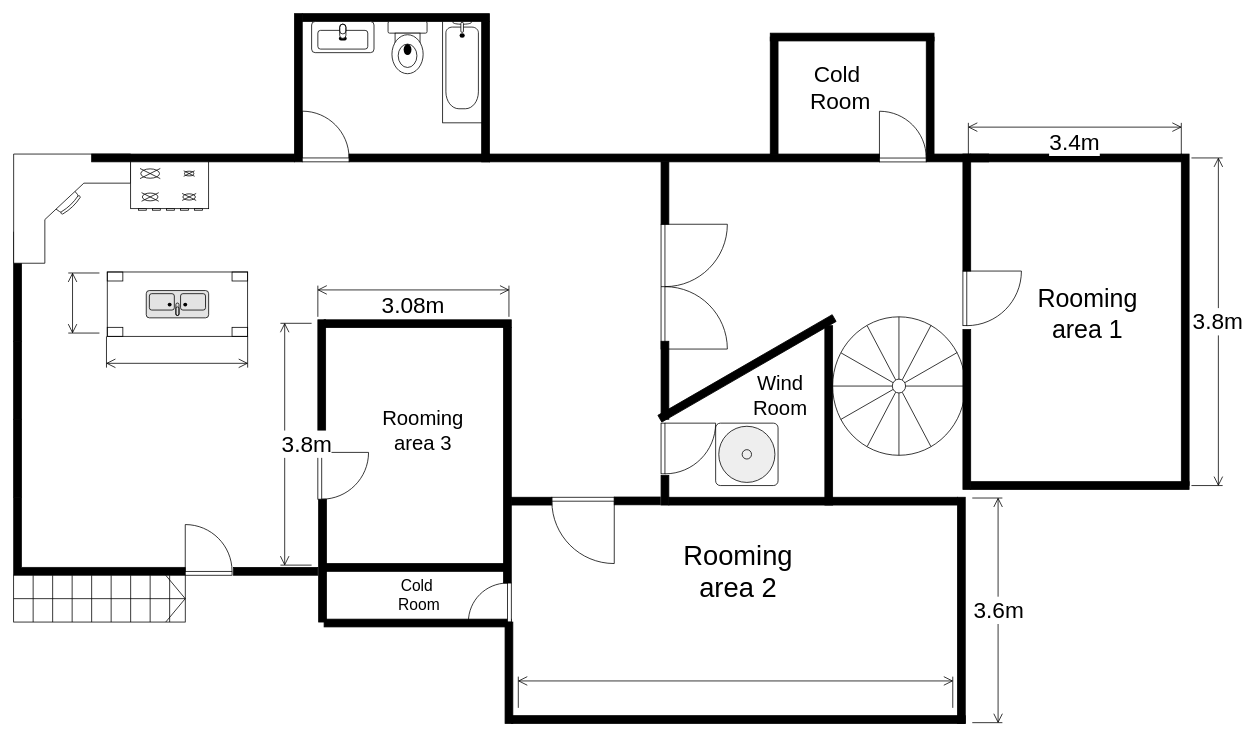
Some shapes in this 1257 by 737 pixel diagram are drawn without their labels. The box of each missing label's shape, as (x1, y1, x2, y2) in pixels:
1m: (67, 272, 99, 333)
2.26m: (106, 336, 248, 368)
6.96m: (518, 676, 953, 708)
